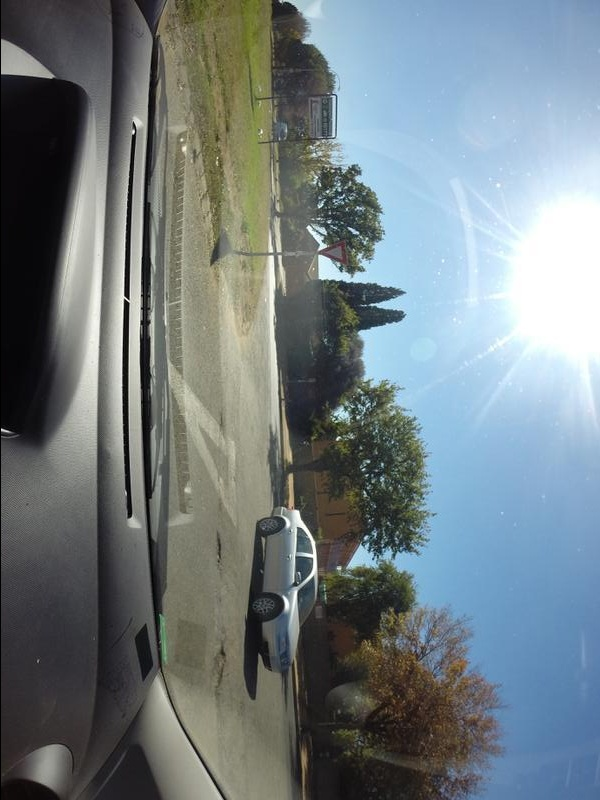pothole: (209, 640, 229, 694), (214, 410, 227, 445), (212, 530, 223, 569)
